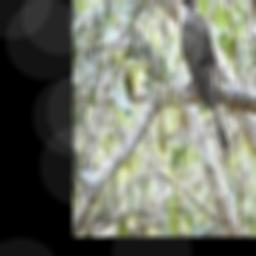Cuckoo: (174, 0, 229, 158)
